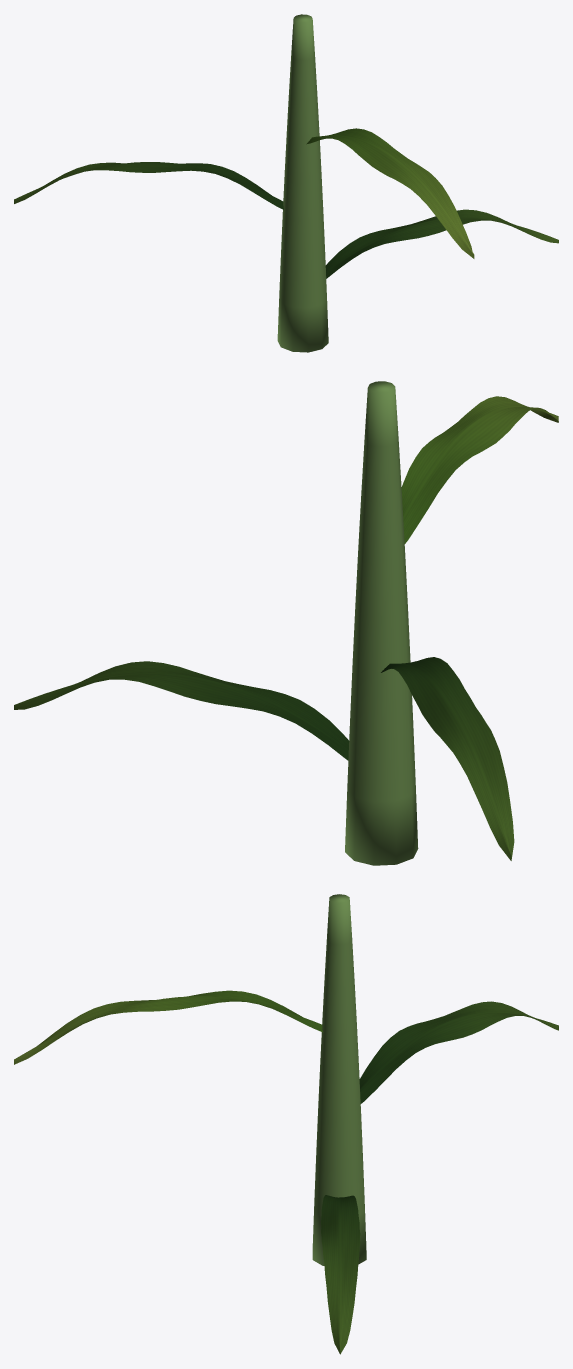
Rendered from lavender-02.glb.
3 views of the same model, one above another, from view 1: azimuth 30°, elevation 25°; view 2: azimuth 150°, elevation 25°; view 3: azimuth 270°, elevation 25° (orthographic). The views are drawn at different scales.
Parts seen in each view (by area): view 1: lavender_stage_02_stem_fibres.002, lavender_stage_02_leaf_veins.002, lavender_stage_02_young_leaf.002; view 2: lavender_stage_02_stem_fibres.002, lavender_stage_02_leaf_veins.002, lavender_stage_02_young_leaf.002; view 3: lavender_stage_02_stem_fibres.002, lavender_stage_02_leaf_veins.002, lavender_stage_02_young_leaf.002.
Boxes of the visible parts, box(x1,y1,x2,y2) form: lavender_stage_02_stem_fibres.002: box(277, 14, 328, 352); lavender_stage_02_leaf_veins.002: box(14, 162, 558, 278); lavender_stage_02_young_leaf.002: box(306, 128, 474, 258); lavender_stage_02_stem_fibres.002: box(345, 381, 418, 865); lavender_stage_02_leaf_veins.002: box(14, 657, 514, 860); lavender_stage_02_young_leaf.002: box(401, 396, 558, 543); lavender_stage_02_stem_fibres.002: box(312, 894, 366, 1265); lavender_stage_02_leaf_veins.002: box(321, 1001, 558, 1354); lavender_stage_02_young_leaf.002: box(14, 990, 323, 1064).
Size of the model in its own units: 0.0801 by 0.0555 by 0.0767.
Materials: 3 (2 with a texture image).
